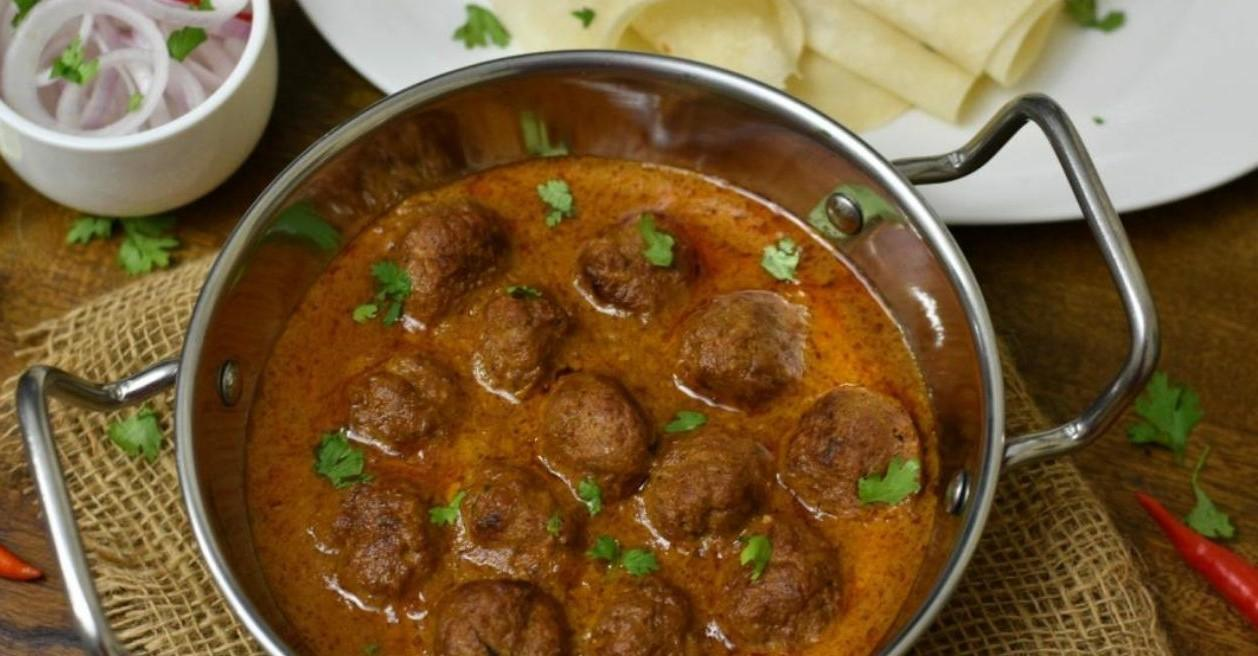MuttonCurry: (238, 153, 941, 656)
